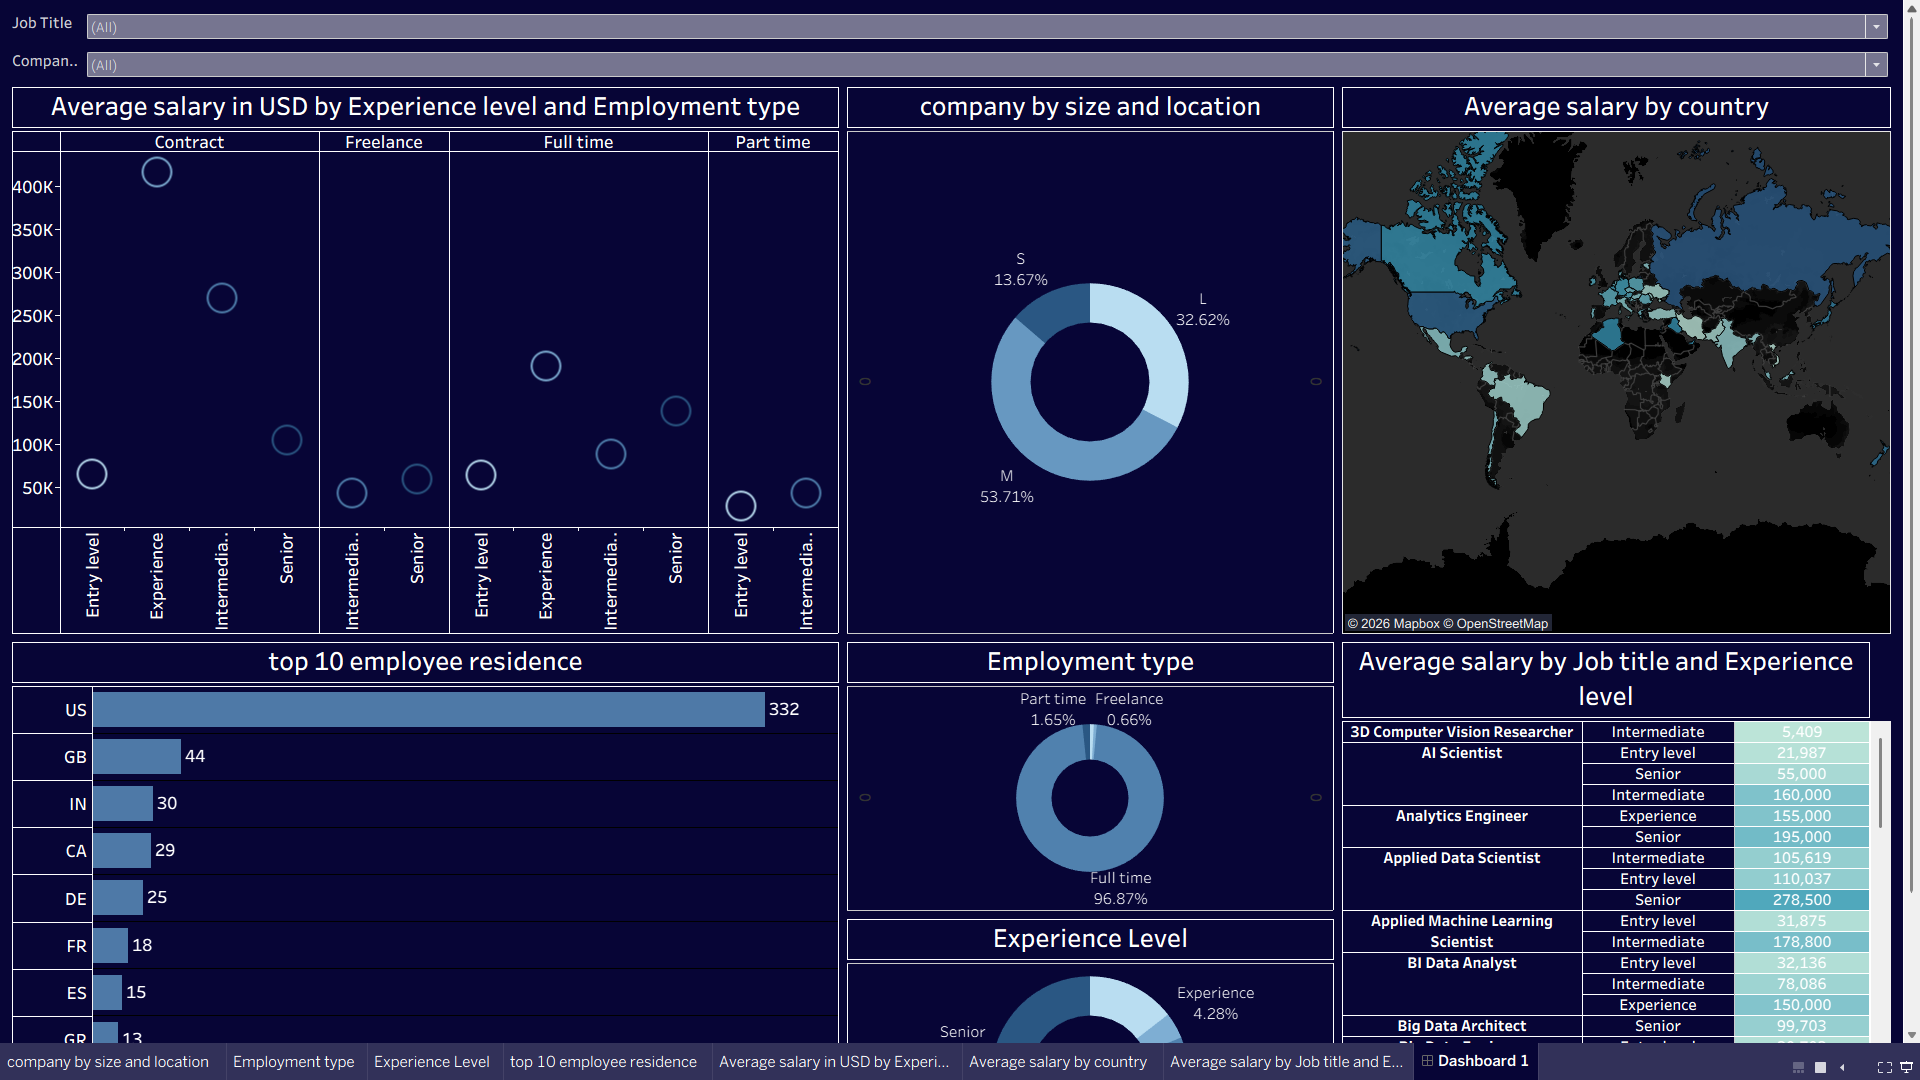

Layout of this report page (visuals, bound fields, positions):
{"tool":"tableau","page":{"name":"Dashboard 1","canvas":[1000,1000],"units":"permille","ordinal":0},"visuals":[{"type":"filter","title":"Average salary by country","param":"[federated.0rpoqm31a5j6yz1gtswto1lqhi4p].[none:job_title:nk]","box":[4.2,6.7,991.6,31.2]},{"type":"filter","title":"company by size and location","param":"[federated.0rpoqm31a5j6yz1gtswto1lqhi4p].[none:company_location:nk]","box":[4.2,37.9,991.6,31.2]},{"type":"worksheet","title":"Average salary in USD by Experience level and Employment type","mark":"Shape","rows":["salary_in_usd"],"cols":["employment_type","experience_level"],"box":[4.2,69.2,438.9,462.1]},{"type":"worksheet","title":"company by size and location","mark":"Pie","rows":["Calculation_1443967851008001","Calculation_1443967851008001"],"box":[443.2,69.2,260,462.1]},{"type":"worksheet","title":"Average salary by country","mark":"Automatic","box":[703.1,69.2,292.6,462.1]},{"type":"worksheet","title":"top 10 employee residence","mark":"Bar","rows":["employee_residence"],"cols":["employee_residence"],"box":[4.2,531.2,438.9,462.1]},{"type":"worksheet","title":"Employment type","mark":"Pie","rows":["Calculation_1443967851008001","Calculation_1443967851008001"],"box":[443.2,531.2,260,231]},{"type":"worksheet","title":"Average salary by Job title and Experience level","mark":"Square","rows":["job_title","experience_level"],"box":[703.1,531.2,292.6,462.1]},{"type":"worksheet","title":"Experience Level","mark":"Pie","rows":["Calculation_1443967851008001","Calculation_1443967851008001"],"box":[443.2,762.3,260,231]}]}

Visuals, with their boxes on the dashboard's canvas, which has no fixed pixel size, in thousandths of its width and height (x1, y1, x2, y2). These are canvas units, not pixel positions in the 1920x1080 screenshot, which may show the page scaled, cropped or inside an application window:
"Average salary by country" filter: l=4, t=7, r=996, b=38
"company by size and location" filter: l=4, t=38, r=996, b=69
"Average salary in USD by Experience level and Employment type" worksheet (Shape marks): l=4, t=69, r=443, b=531
"company by size and location" worksheet (Pie marks): l=443, t=69, r=703, b=531
"Average salary by country" worksheet: l=703, t=69, r=996, b=531
"top 10 employee residence" worksheet (Bar marks): l=4, t=531, r=443, b=993
"Employment type" worksheet (Pie marks): l=443, t=531, r=703, b=762
"Average salary by Job title and Experience level" worksheet (Square marks): l=703, t=531, r=996, b=993
"Experience Level" worksheet (Pie marks): l=443, t=762, r=703, b=993
